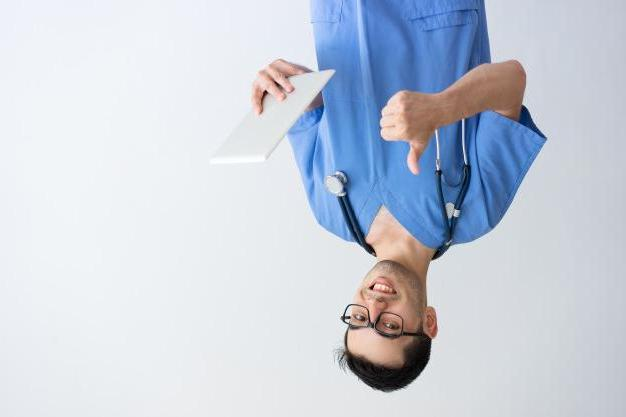thumbsdown: (379, 90, 423, 175)
